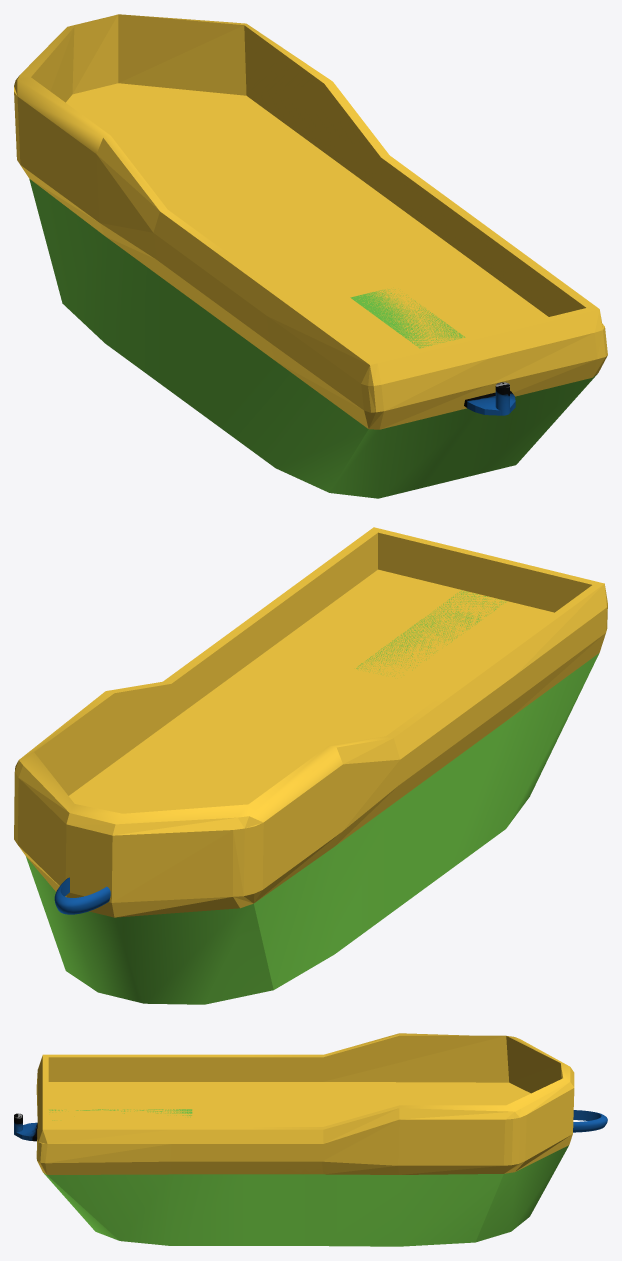
File: Standard Hull.FBX
3 views of the same model, one above another, from view 1: azimuth 30°, elevation 25°; view 2: azimuth 150°, elevation 25°; view 3: azimuth 270°, elevation 25° (orthographic). The views are drawn at different scales.
Visible parts, largest first — view 1: standard hulk safe, Anhänger back; view 2: standard hulk safe, Anhänger front; view 3: standard hulk safe, Anhänger front, Anhänger back.
Part boxes in pixels (x1,y1,x2,y2): standard hulk safe: (14,14,607,498); Anhänger back: (464,382,515,415); standard hulk safe: (14,527,607,1004); Anhänger front: (54,877,110,914); standard hulk safe: (36,1033,574,1246); Anhänger front: (573,1110,607,1132); Anhänger back: (14,1113,37,1141).
Size of the model in its own units: 7.46 by 6.01 by 23.45.
